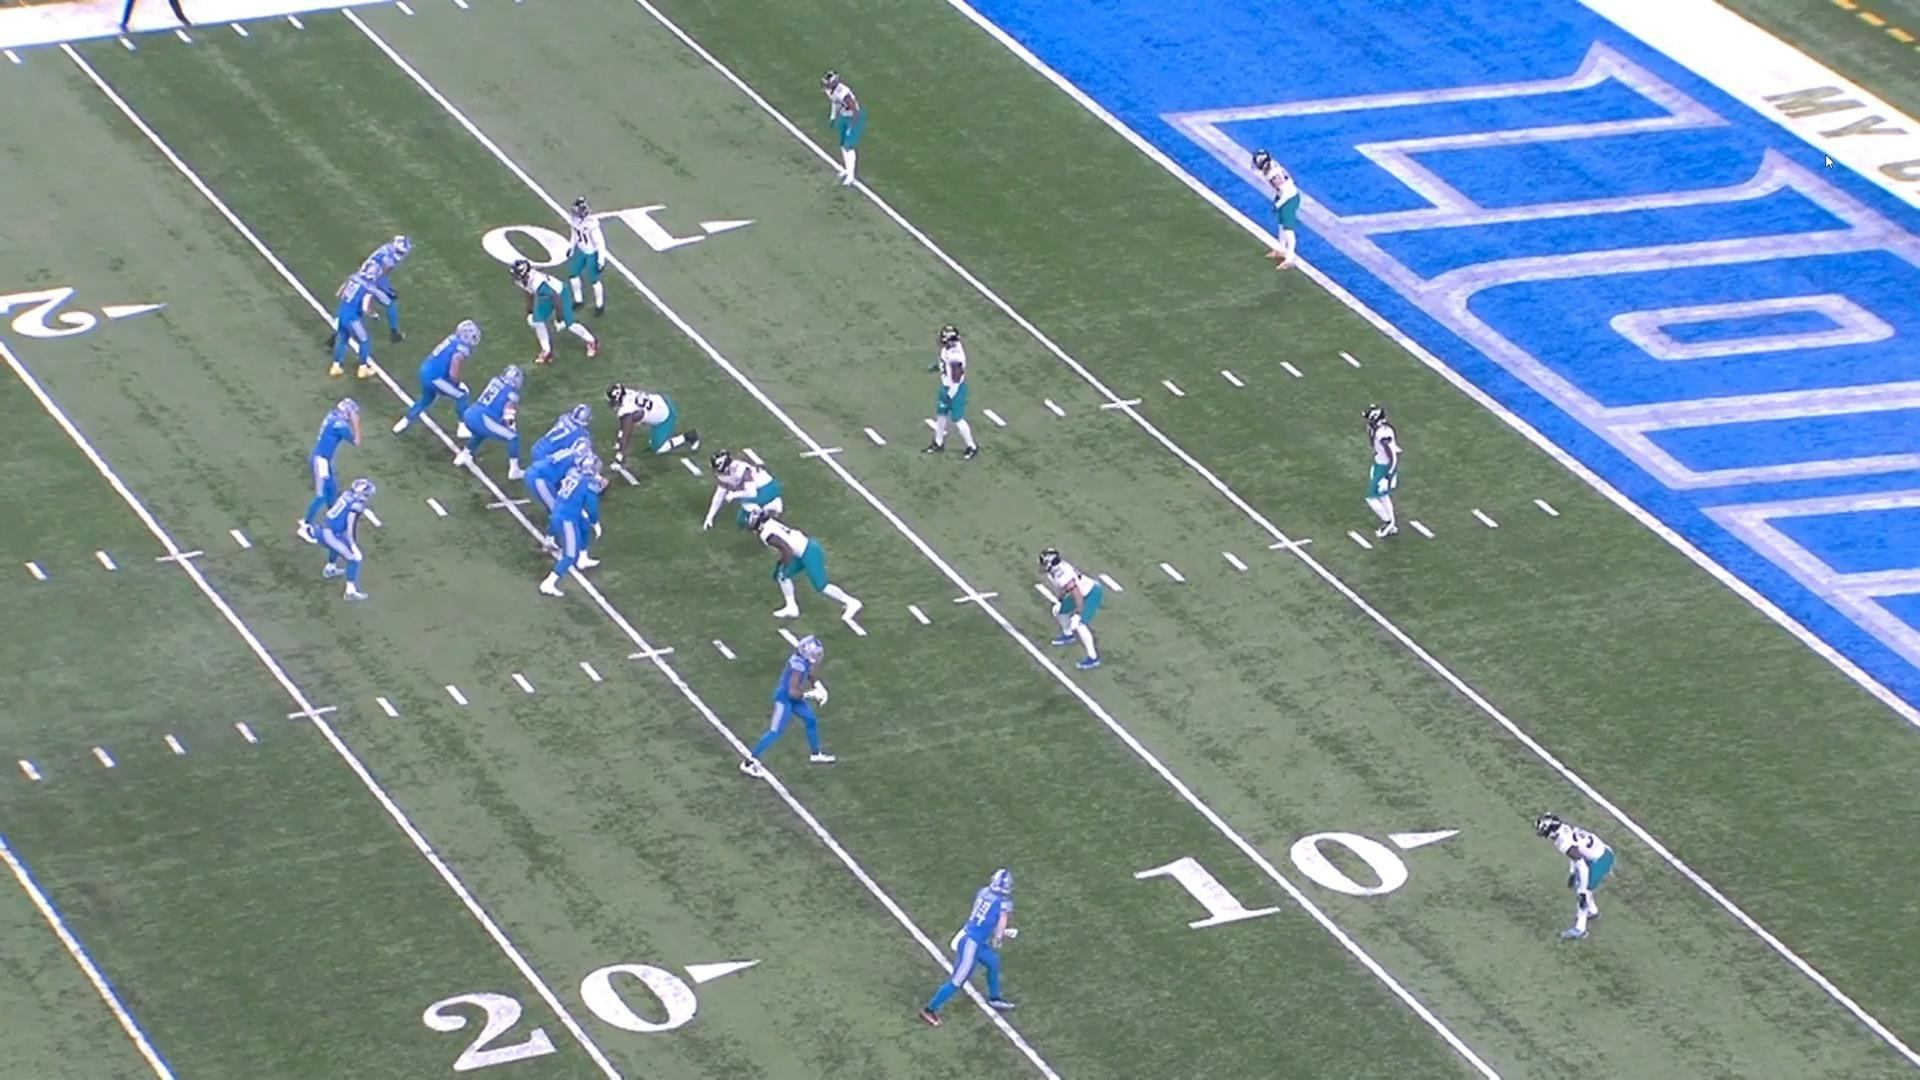10R: (1130, 828, 1462, 931), (481, 203, 758, 269)
20R: (419, 959, 764, 1073), (0, 285, 166, 338)
